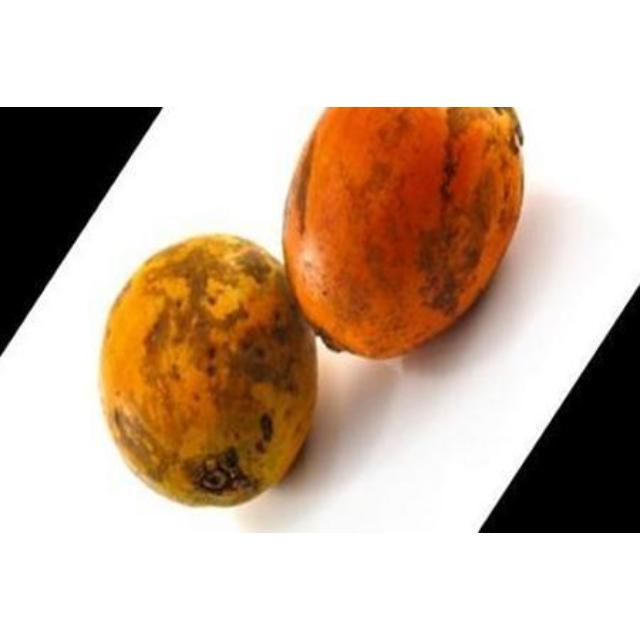good: (283, 107, 525, 362), (98, 234, 319, 509)
